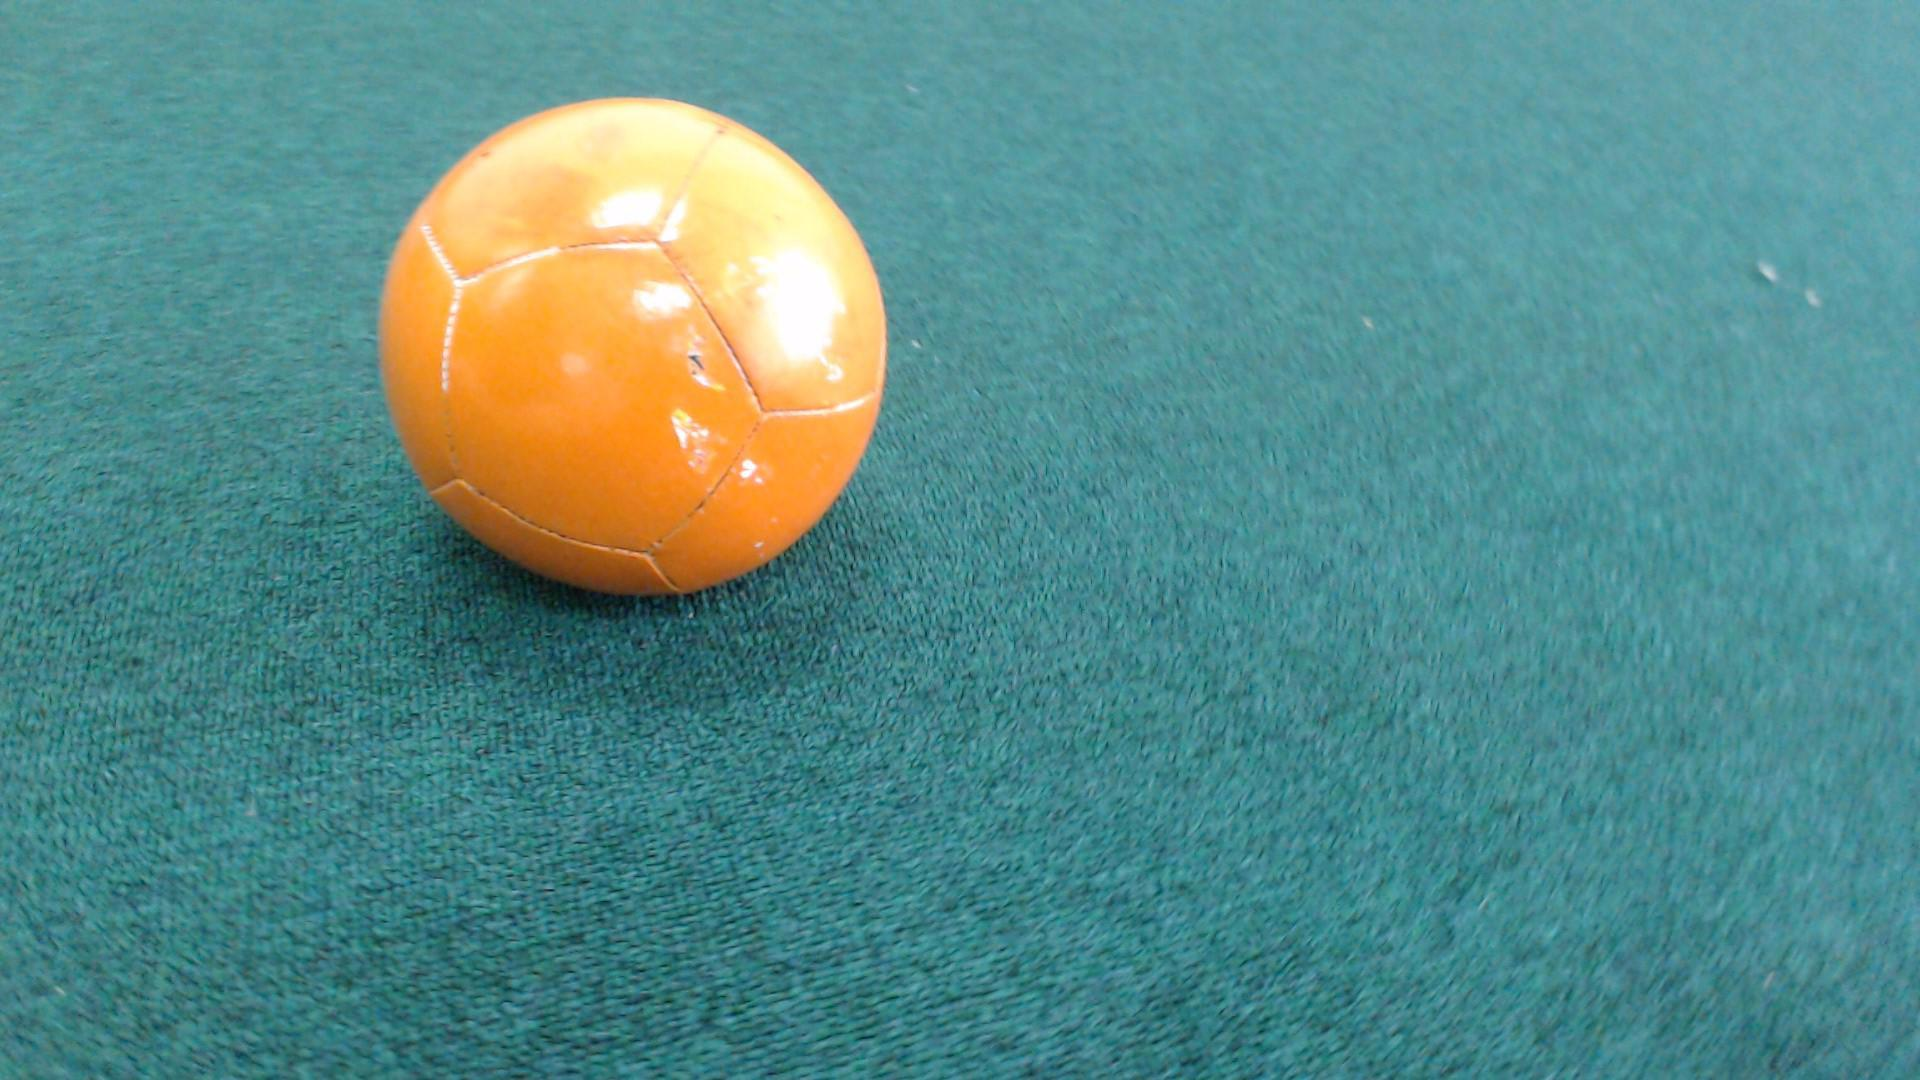bola: (324, 75, 940, 640)
